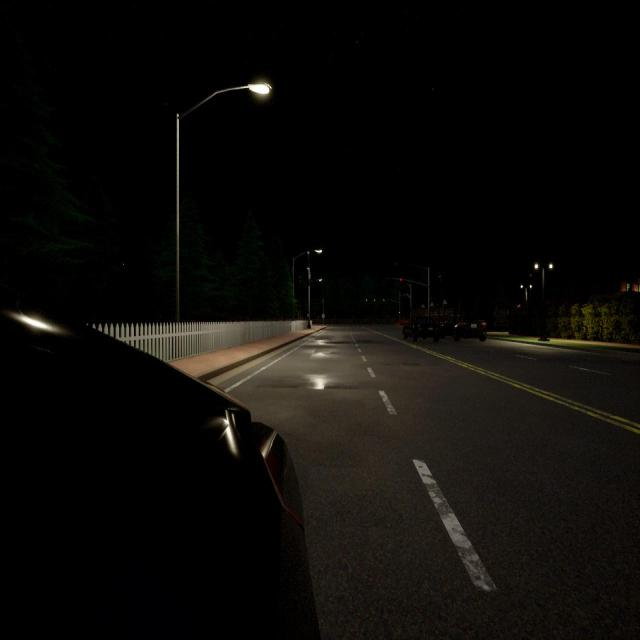Traffic_Signs: (321, 314, 325, 319)
Vehicle: (0, 308, 319, 637), (402, 315, 445, 343), (446, 314, 487, 342)
traffic_light: (400, 278, 402, 285), (383, 298, 385, 302), (366, 298, 367, 302), (374, 298, 375, 302), (399, 311, 400, 315)
